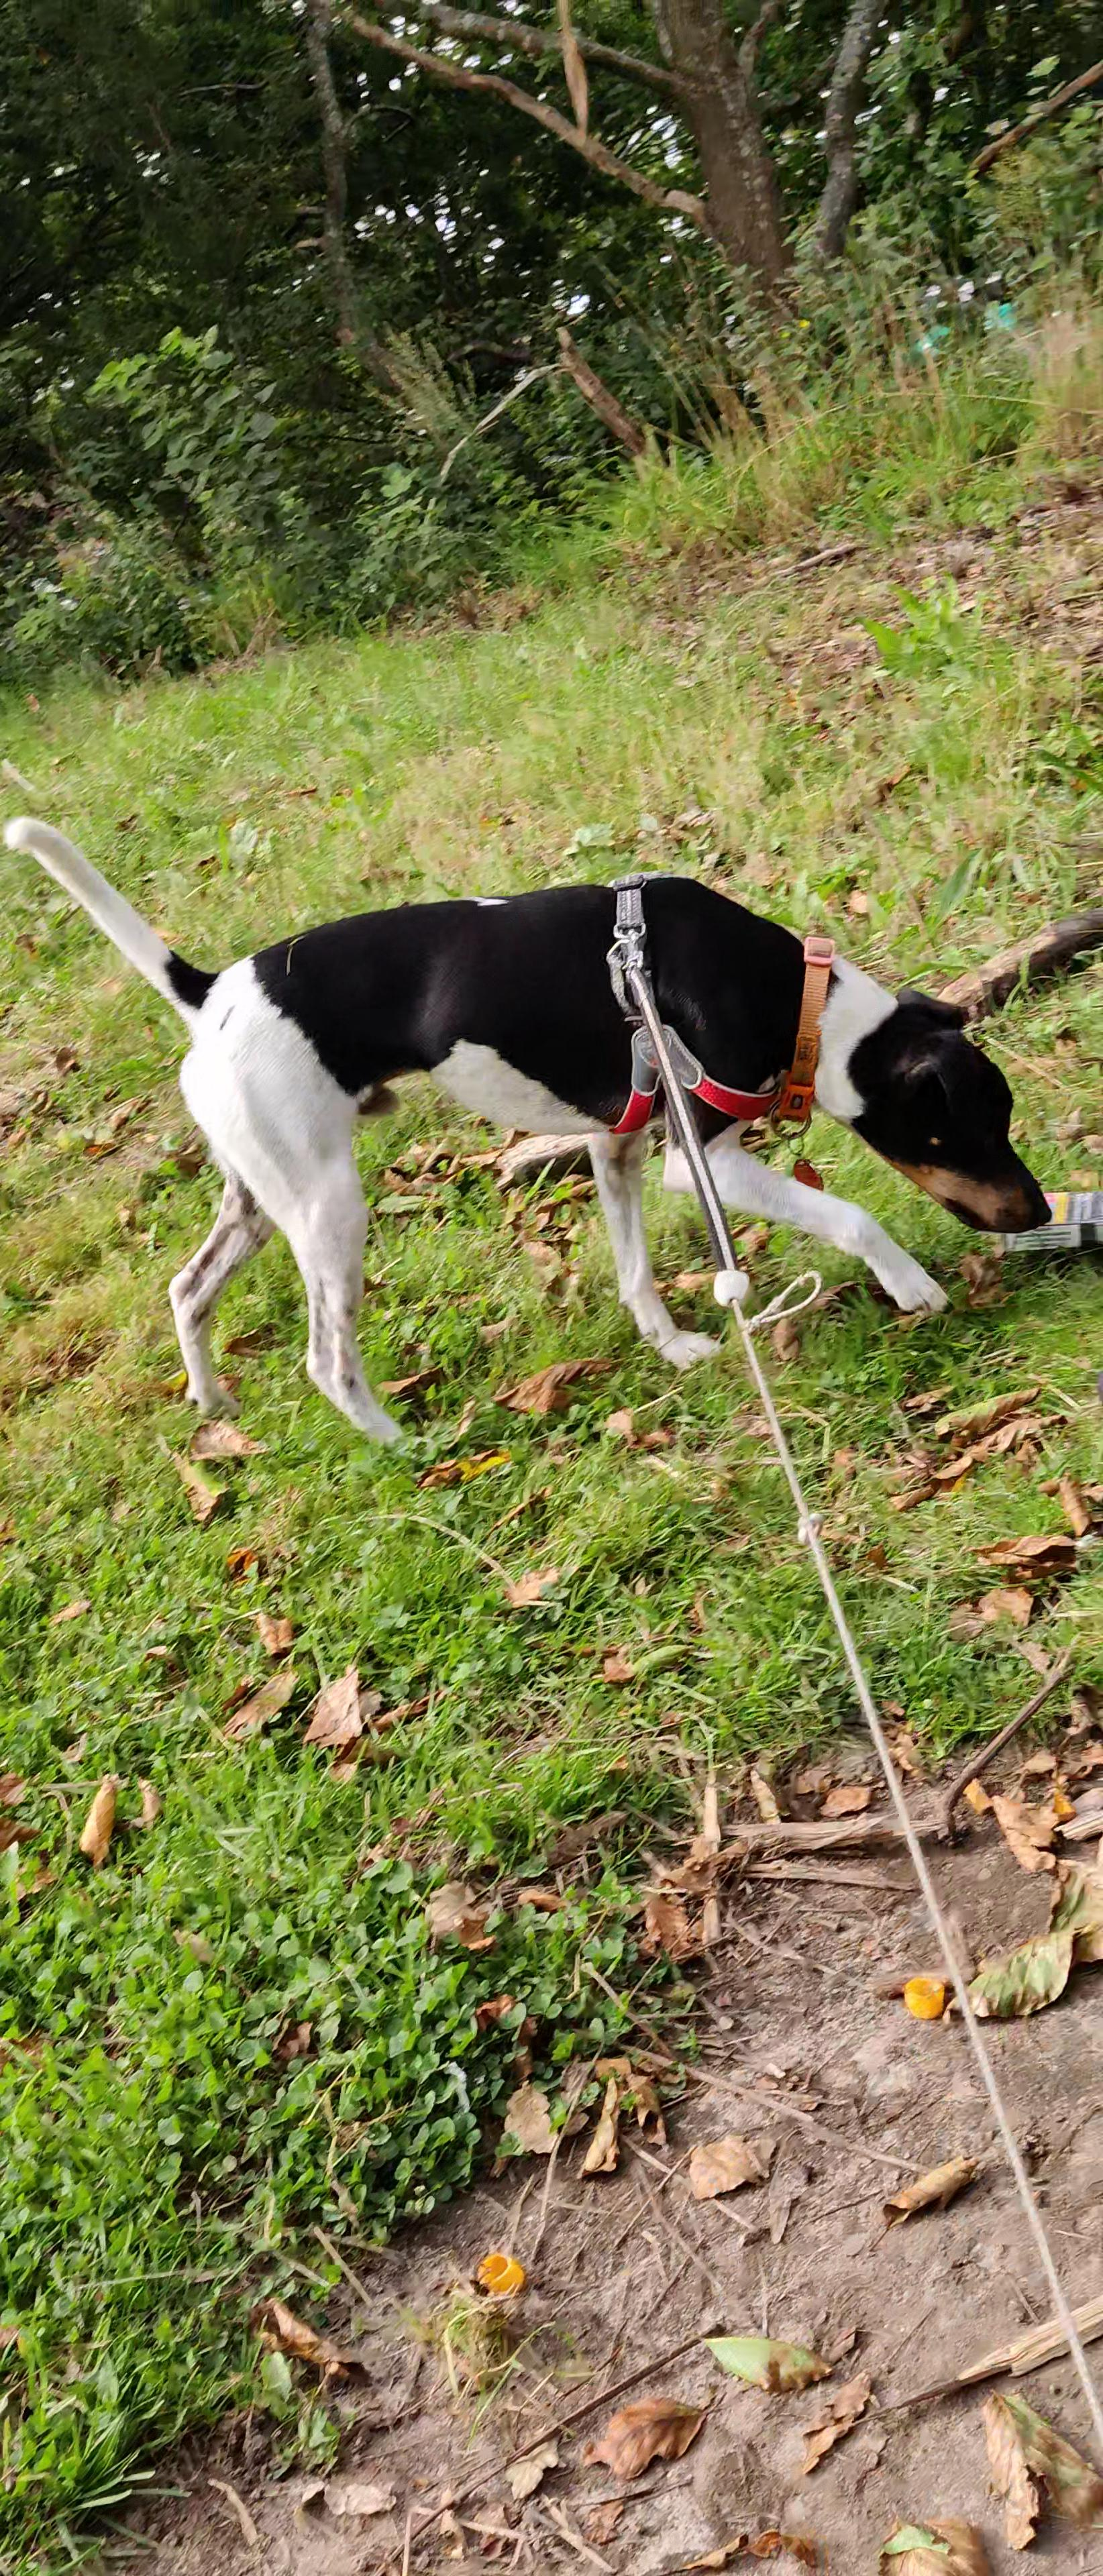Dog: (0, 789, 1054, 1456)
